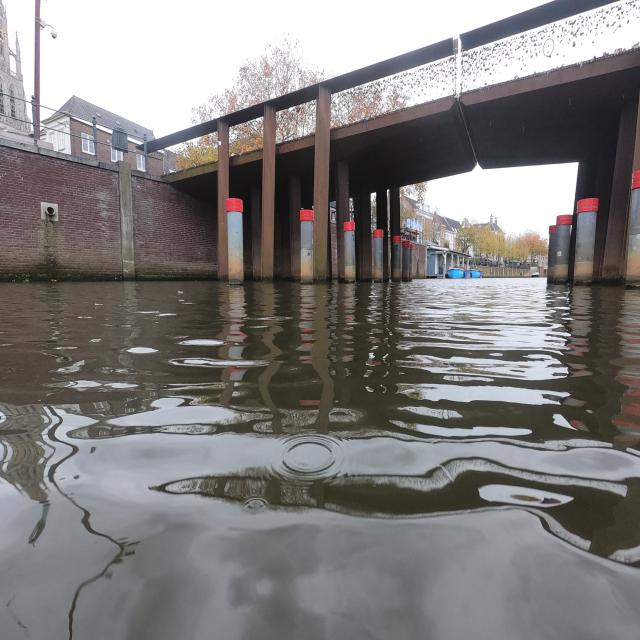boat: (446, 268, 465, 279), (470, 269, 482, 278)
sky: (36, 8, 524, 130), (428, 164, 574, 236)
wall: (0, 138, 216, 276)
water: (8, 280, 632, 636)
